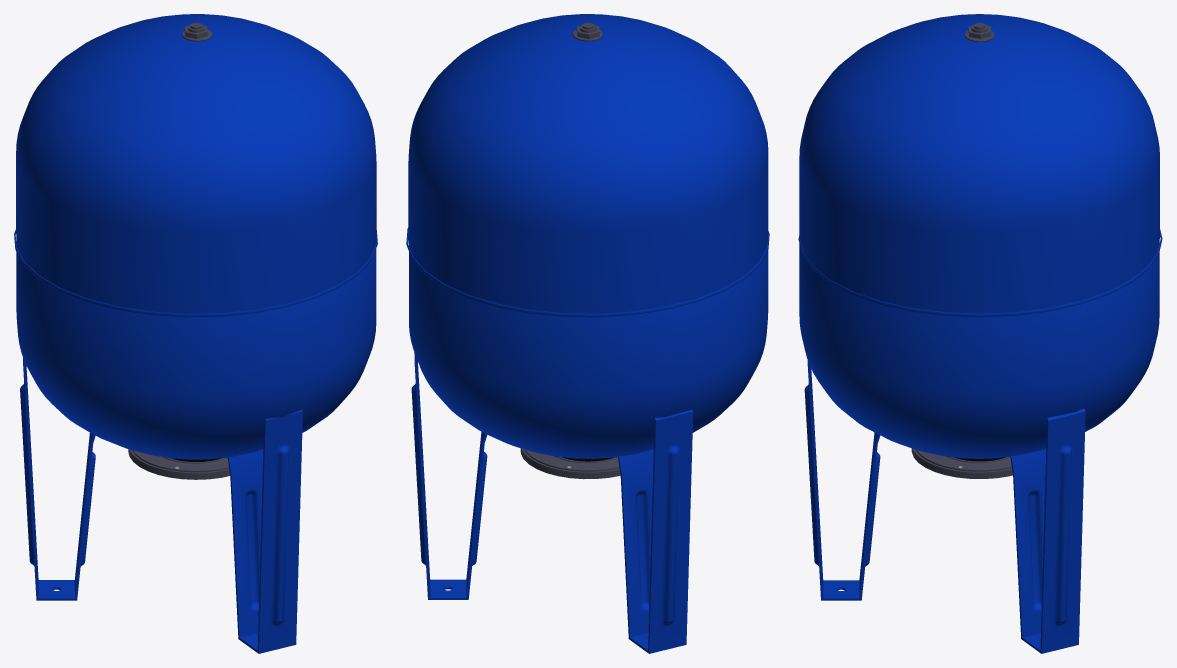
The model's file is 100lt-manometresiz-dik-ayaklı.obj.
3 renders of one model, left to right at view 1: azimuth 30°, elevation 25°; view 2: azimuth 150°, elevation 25°; view 3: azimuth 270°, elevation 25°, orthographic.
Visible parts, largest first — view 1: 100lt-manometresiz-dik-ayaklı.006, 100lt-manometresiz-dik-ayaklı, 100lt-manometresiz-dik-ayaklı.009, 100lt-manometresiz-dik-ayaklı.001, 100lt-manometresiz-dik-ayaklı.008, 100lt-manometresiz-dik-ayaklı.007, 100lt-manometresiz-dik-ayaklı.005; view 2: 100lt-manometresiz-dik-ayaklı.006, 100lt-manometresiz-dik-ayaklı, 100lt-manometresiz-dik-ayaklı.001, 100lt-manometresiz-dik-ayaklı.003, 100lt-manometresiz-dik-ayaklı.008, 100lt-manometresiz-dik-ayaklı.007, 100lt-manometresiz-dik-ayaklı.005; view 3: 100lt-manometresiz-dik-ayaklı.006, 100lt-manometresiz-dik-ayaklı, 100lt-manometresiz-dik-ayaklı.003, 100lt-manometresiz-dik-ayaklı.009, 100lt-manometresiz-dik-ayaklı.008, 100lt-manometresiz-dik-ayaklı.007, 100lt-manometresiz-dik-ayaklı.005.
Boxes of the visible parts, x1,y1,x2,y2 form: 100lt-manometresiz-dik-ayaklı.006: (16,14,376,313); 100lt-manometresiz-dik-ayaklı: (16,238,376,459); 100lt-manometresiz-dik-ayaklı.009: (227,410,302,653); 100lt-manometresiz-dik-ayaklı.001: (20,358,95,600); 100lt-manometresiz-dik-ayaklı.008: (14,229,377,317); 100lt-manometresiz-dik-ayaklı.007: (132,450,228,472); 100lt-manometresiz-dik-ayaklı.005: (128,449,230,479); 100lt-manometresiz-dik-ayaklı.006: (408,14,768,313); 100lt-manometresiz-dik-ayaklı: (409,245,768,458); 100lt-manometresiz-dik-ayaklı.001: (618,409,693,653); 100lt-manometresiz-dik-ayaklı.003: (411,352,487,599); 100lt-manometresiz-dik-ayaklı.008: (406,227,769,317); 100lt-manometresiz-dik-ayaklı.007: (524,449,619,471); 100lt-manometresiz-dik-ayaklı.005: (520,448,620,479); 100lt-manometresiz-dik-ayaklı.006: (799,14,1159,313); 100lt-manometresiz-dik-ayaklı: (799,241,1159,458); 100lt-manometresiz-dik-ayaklı.003: (1010,408,1085,653); 100lt-manometresiz-dik-ayaklı.009: (804,360,880,600); 100lt-manometresiz-dik-ayaklı.008: (798,229,1162,317); 100lt-manometresiz-dik-ayaklı.007: (916,450,1011,471); 100lt-manometresiz-dik-ayaklı.005: (911,448,1012,478).
Bounding box in the file's own units: 37.38 × 64.07 × 37.38.
